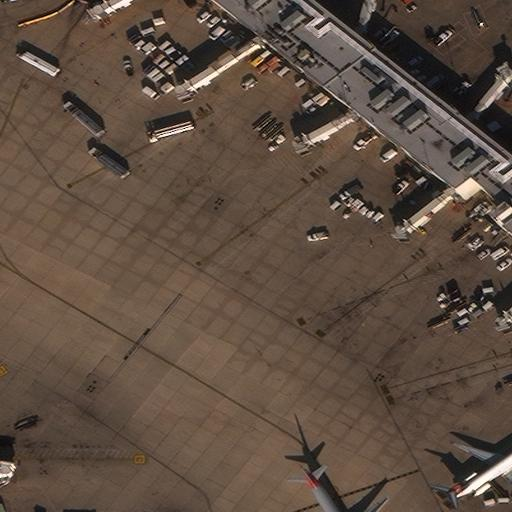Medium Civil Transport: (447, 433, 511, 507), (291, 465, 389, 512)
